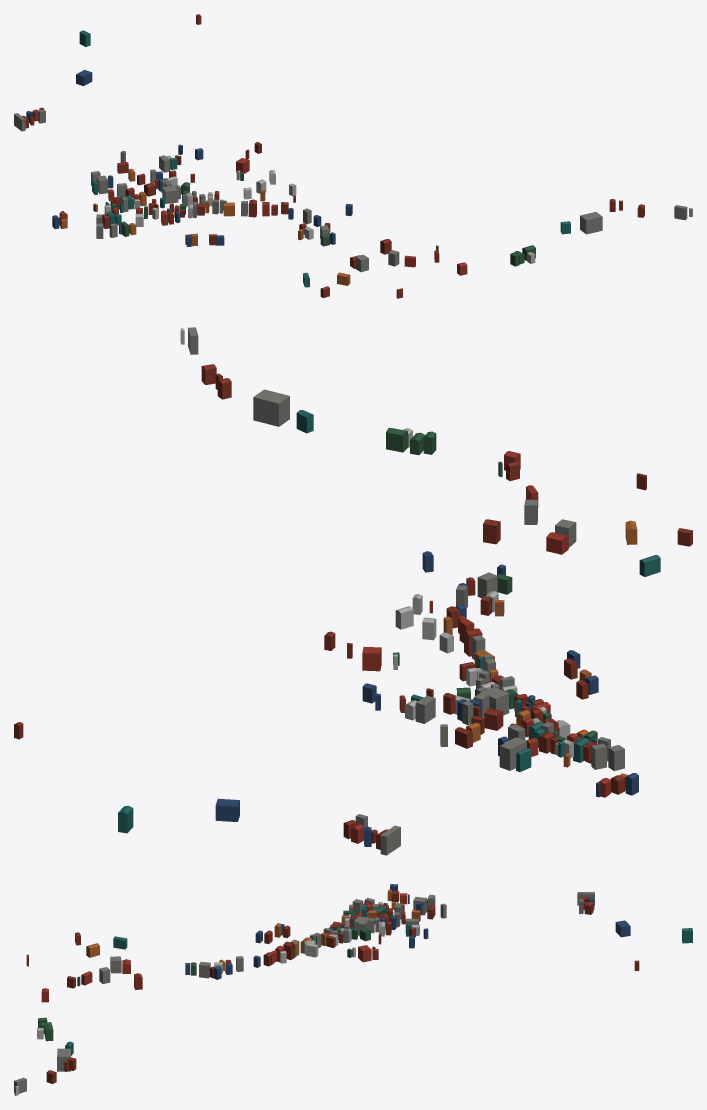
File: near-15-27352-14866.c2b81711.glb
3 renders of one model, top to bottom at view 1: azimuth 30°, elevation 25°; view 2: azimuth 150°, elevation 25°; view 3: azimuth 270°, elevation 25°, orthographic. The views are drawn at different scales.
Bounding box in the file's own units: 937 × 133 × 1146.
